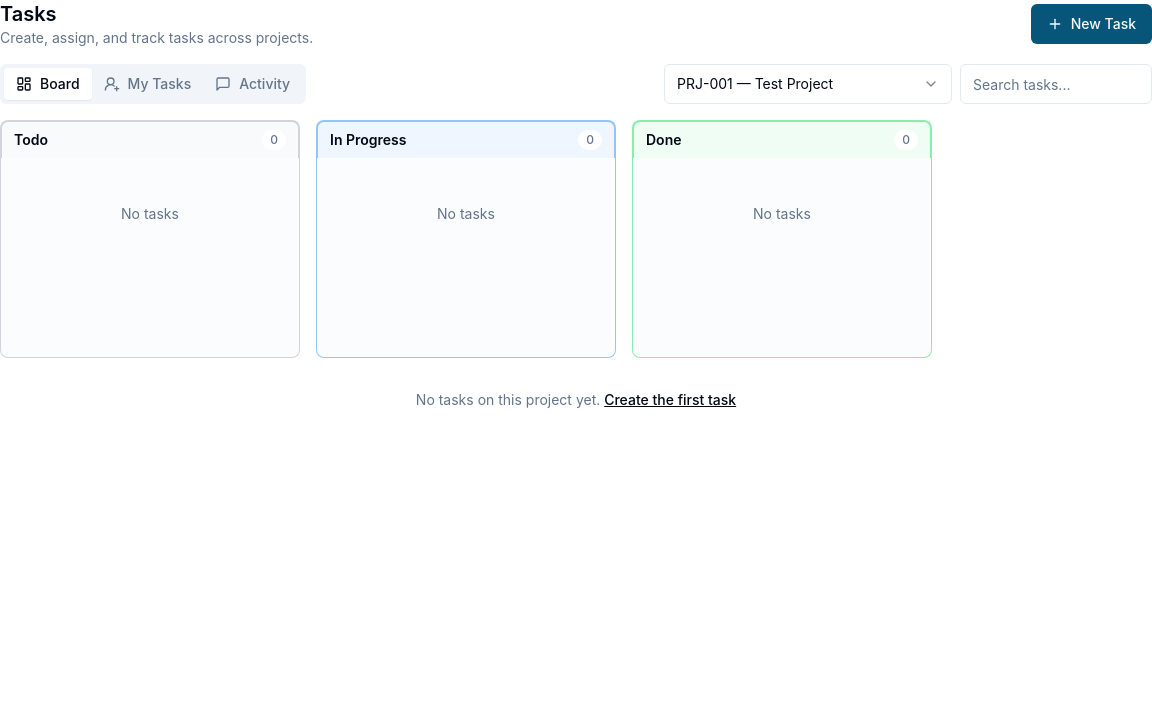
Test case: TasksPage › opens create dialog from board empty state
Expected: the text "No tasks on this project yet. Create the first task" is shown, [416,390,736,410]
Click the button "Create the first task". click: (670, 400)
box: [604,390,736,410]
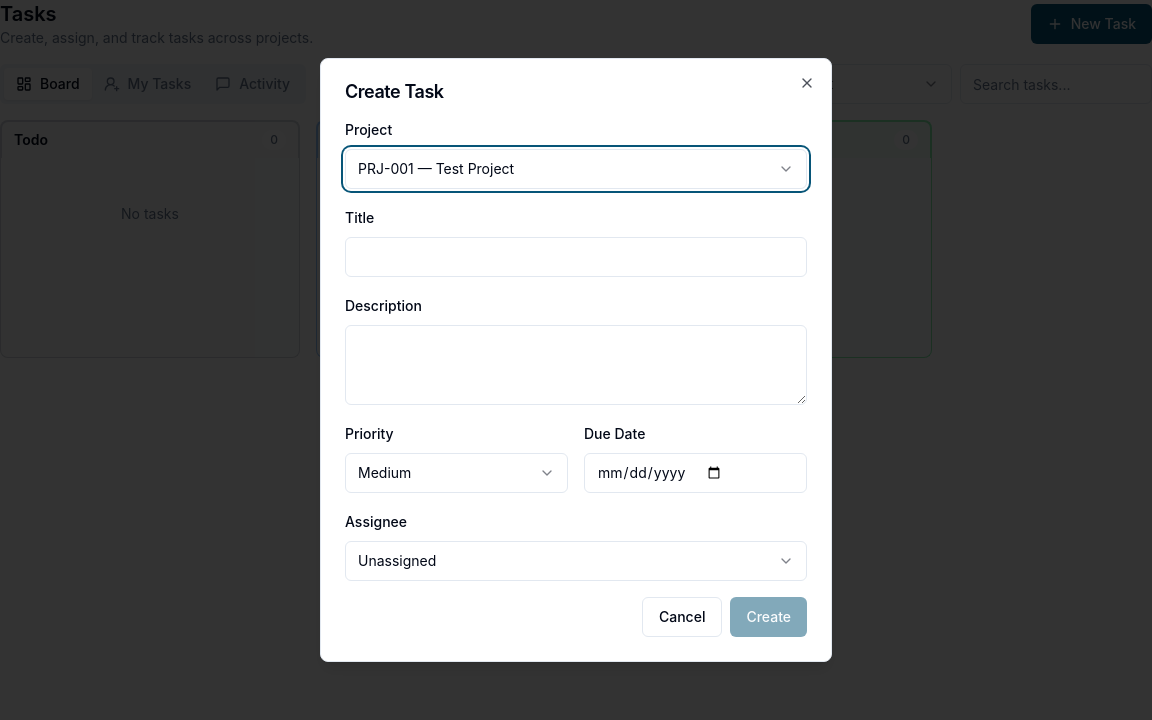
Result: the heading "Create Task" is shown at [345,81,444,102]
